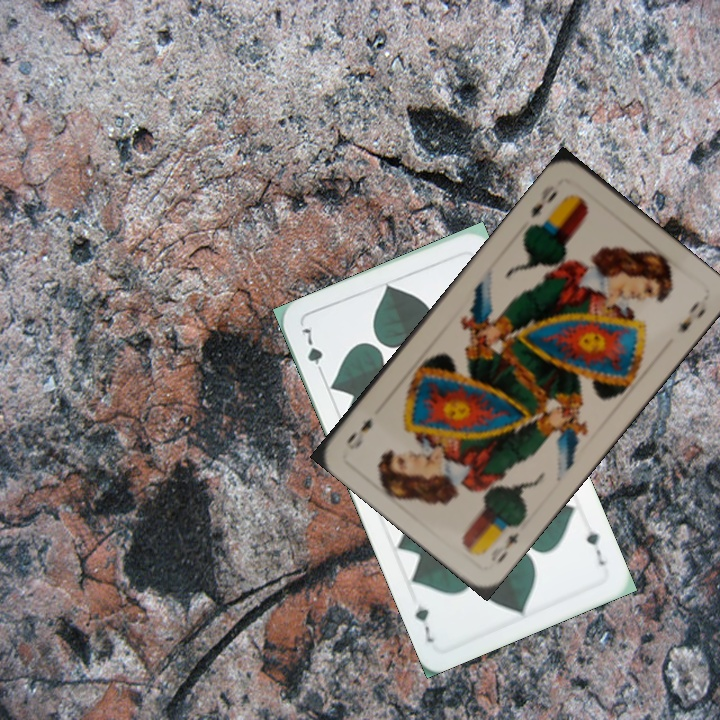EO: (493, 519, 524, 566), (526, 186, 560, 222)
G7: (297, 324, 327, 380), (582, 518, 608, 568)
